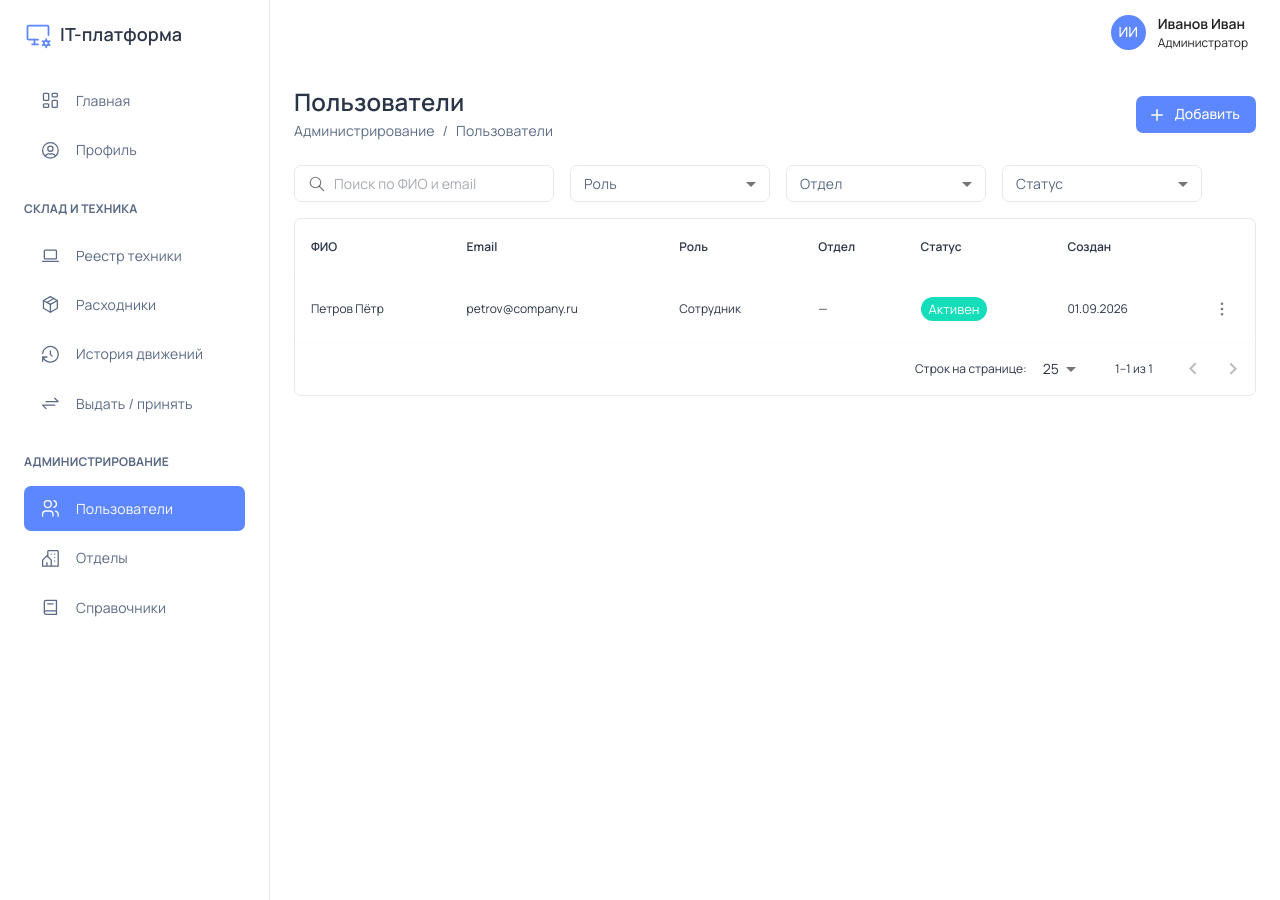
деактивация с блокирующими причинами показывает их список
Click the button named "Действия": (1222, 310) [1205,292,1239,326]
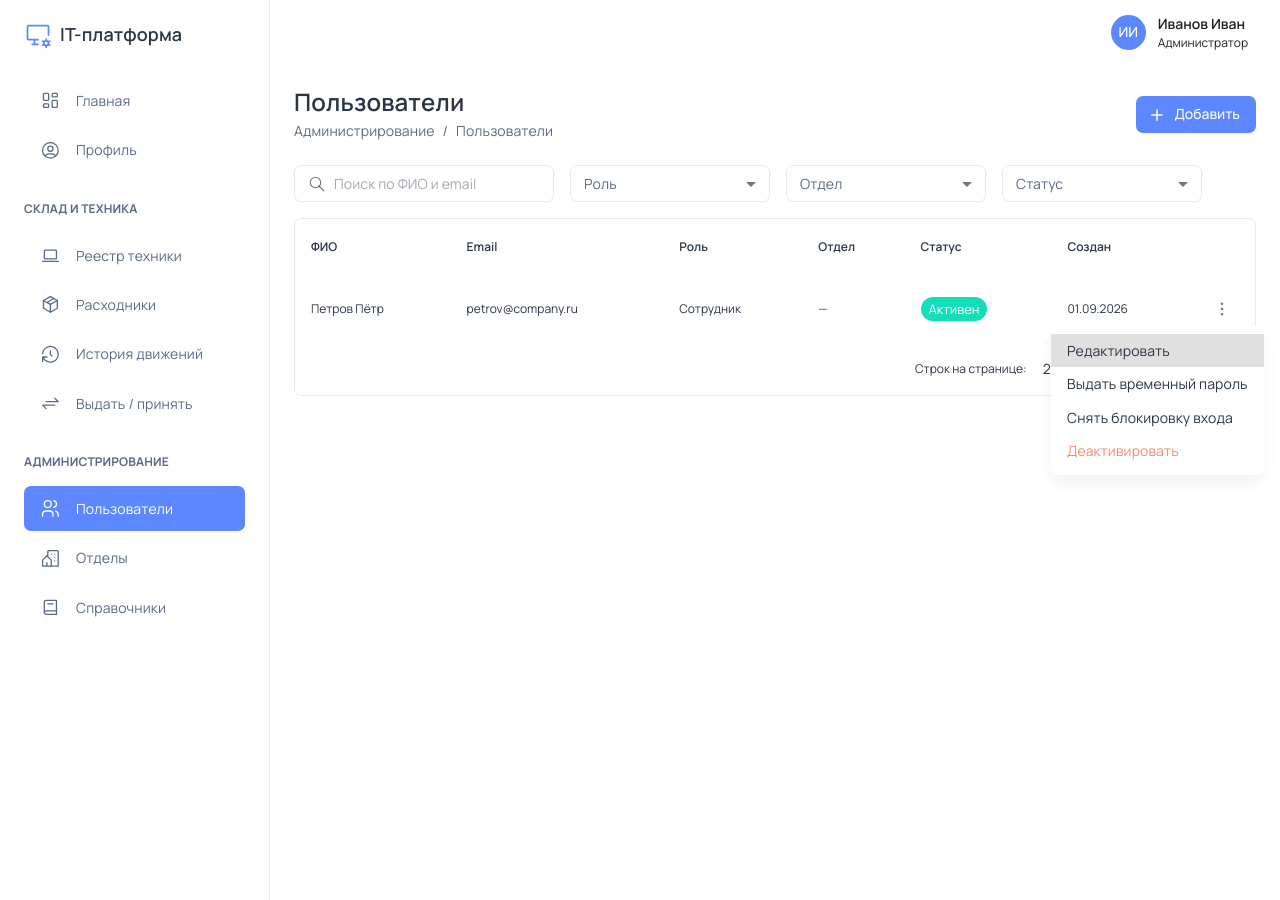
Click the menu item "Деактивировать": (1123, 450) [1067,441,1179,460]
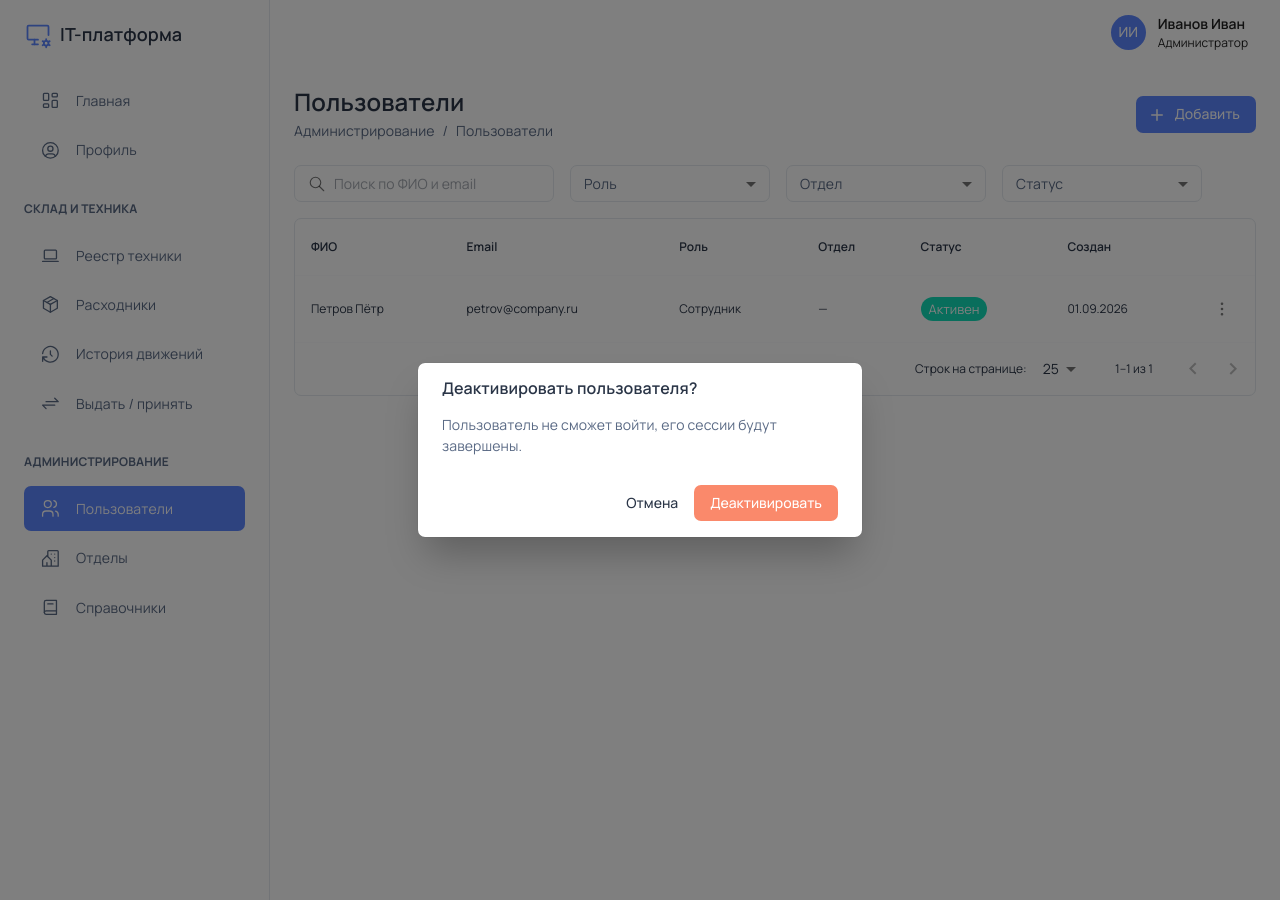
Click the button "Деактивировать": (766, 503) [694,485,838,521]
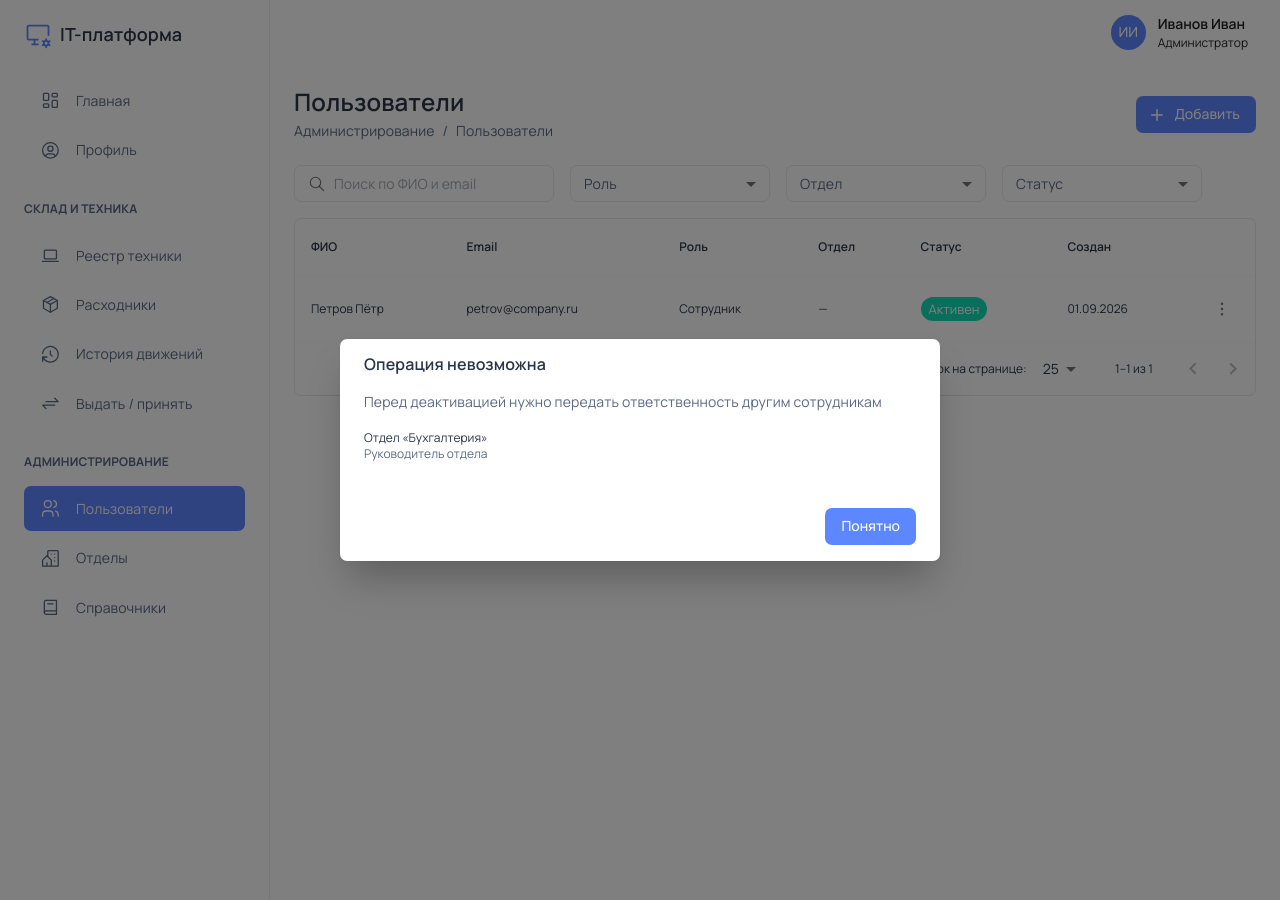
Now the text "Отдел «Бухгалтерия»" is shown, box [364,429,488,446]
Now the text "Руководитель отдела" is shown, box [364,445,488,462]
